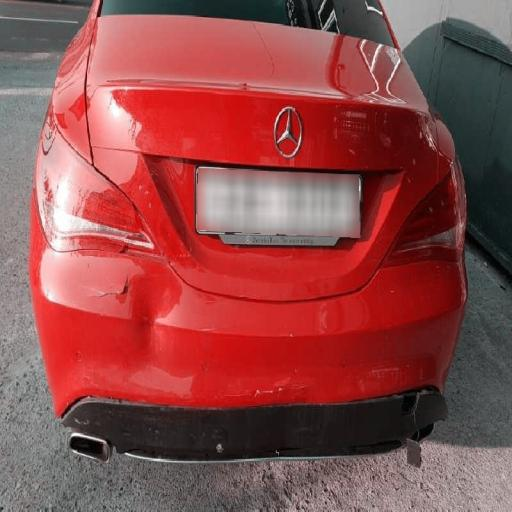broken: (88, 231, 170, 327)
scratch: (342, 77, 492, 269)
